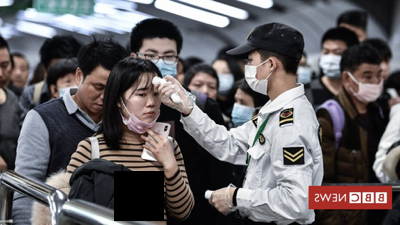mask_weared_incorrect: (123, 86, 163, 135)
with_mask: (140, 47, 178, 82), (353, 68, 385, 104), (243, 55, 268, 97), (319, 47, 345, 80), (231, 95, 256, 128), (211, 66, 234, 95), (296, 60, 311, 86)
without_mask: (81, 79, 109, 115), (8, 63, 29, 90), (0, 59, 13, 92)
